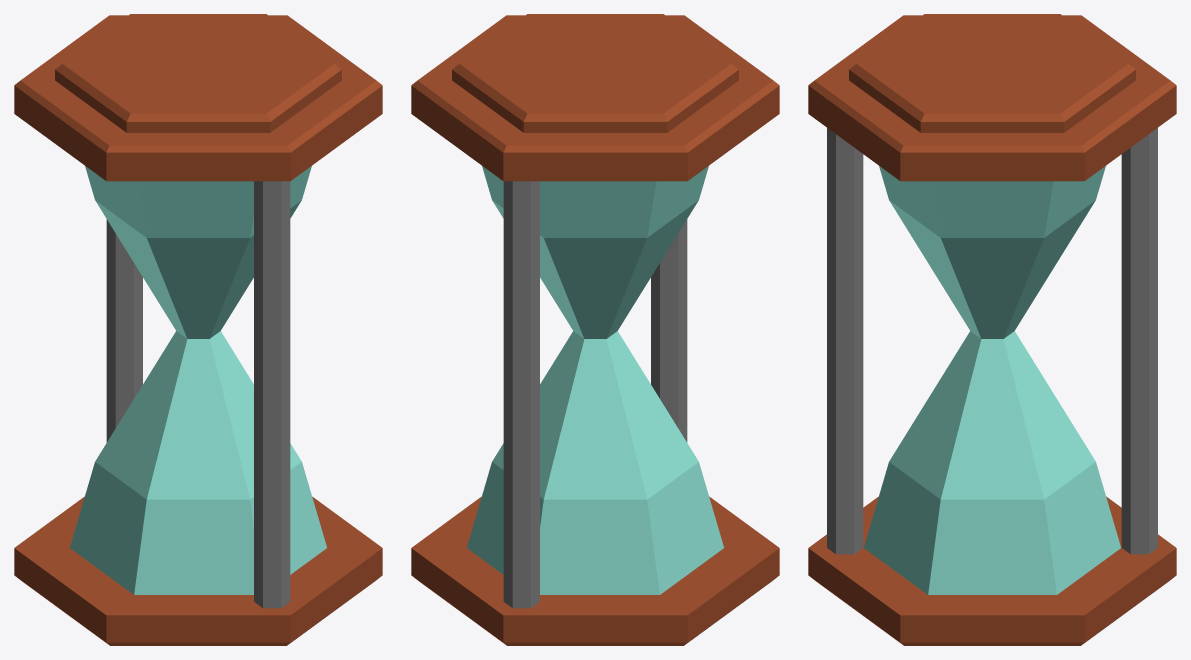
The model's file is Env_Hourglass_01a.fbx.
The picture shows the model from 3 angles, left to right: view 1: azimuth 30°, elevation 25°; view 2: azimuth 150°, elevation 25°; view 3: azimuth 270°, elevation 25°; orthographic projection.
Parts seen in each view (by area): view 1: Hourglass; view 2: Hourglass; view 3: Hourglass.
Boxes of the visible parts, x1,y1,x2,y2 form: Hourglass: (14, 14, 382, 645); Hourglass: (411, 14, 779, 645); Hourglass: (808, 14, 1176, 645).
Size of the model in its own units: 173 by 310 by 200.
